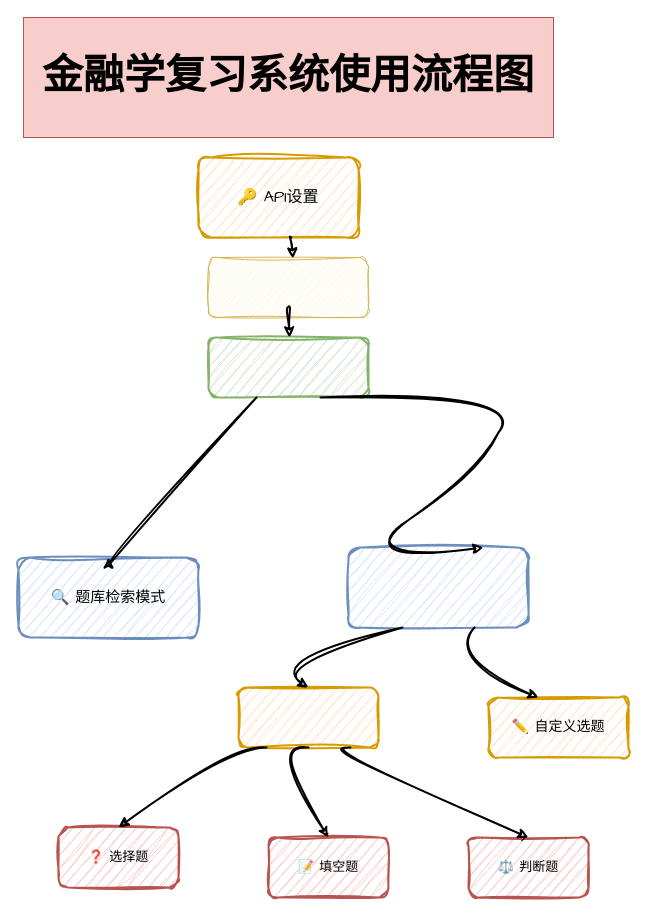
This 646x916 diagram has some shape labels left out. The box of each missing label's shape, as (x1, y1, x2, y2) in pixels:
输入API密钥: (208, 256, 368, 318)
🎯 模拟刷题模式: (347, 546, 529, 628)
🎲 随机挑战: (237, 686, 379, 748)
💾 保存配置: (207, 336, 369, 398)
